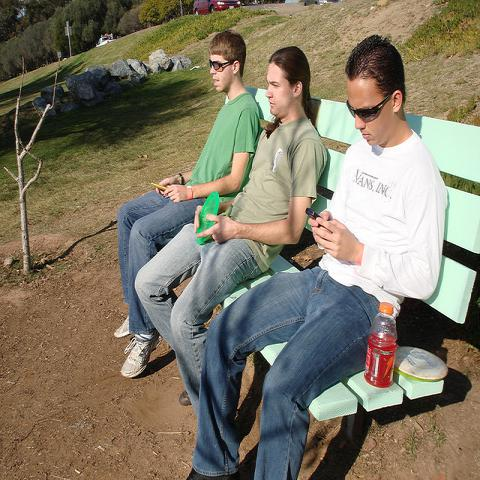car: (192, 0, 241, 16)
truck: (95, 34, 114, 48)
